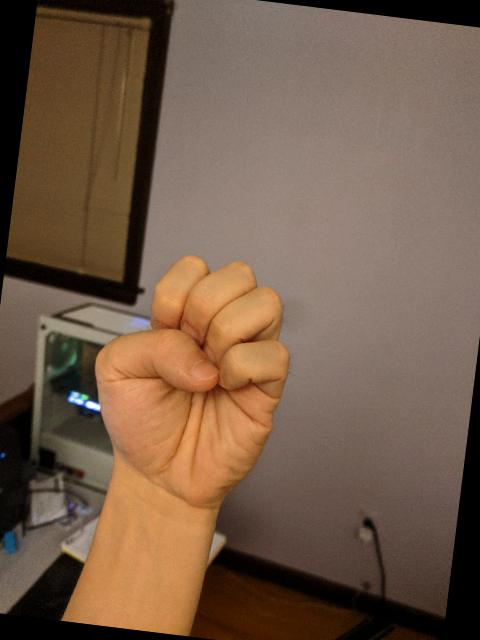E: (73, 241, 307, 524)
